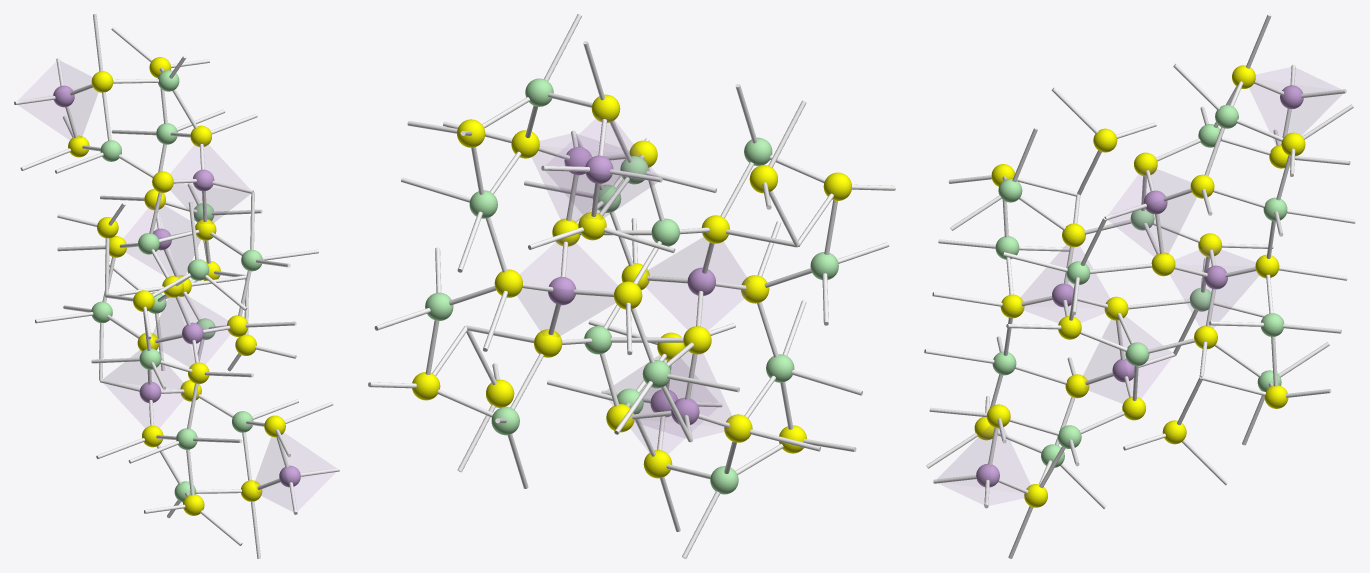
File: structure_mpstyle.glb
3 renders of one model, left to right at view 1: azimuth 30°, elevation 25°; view 2: azimuth 150°, elevation 25°; view 3: azimuth 270°, elevation 25°, orthographic. The views are drawn at different scales.
Visible parts, largest first — view 1: world; view 2: world; view 3: world.
Part boxes in pixels (x1=…): world: x1=14, y1=14, x2=339, y2=558; world: x1=368, y1=14, x2=895, y2=558; world: x1=924, y1=14, x2=1355, y2=558.
Bounding box in the file's own units: 10.04 × 19.17 × 14.45.
